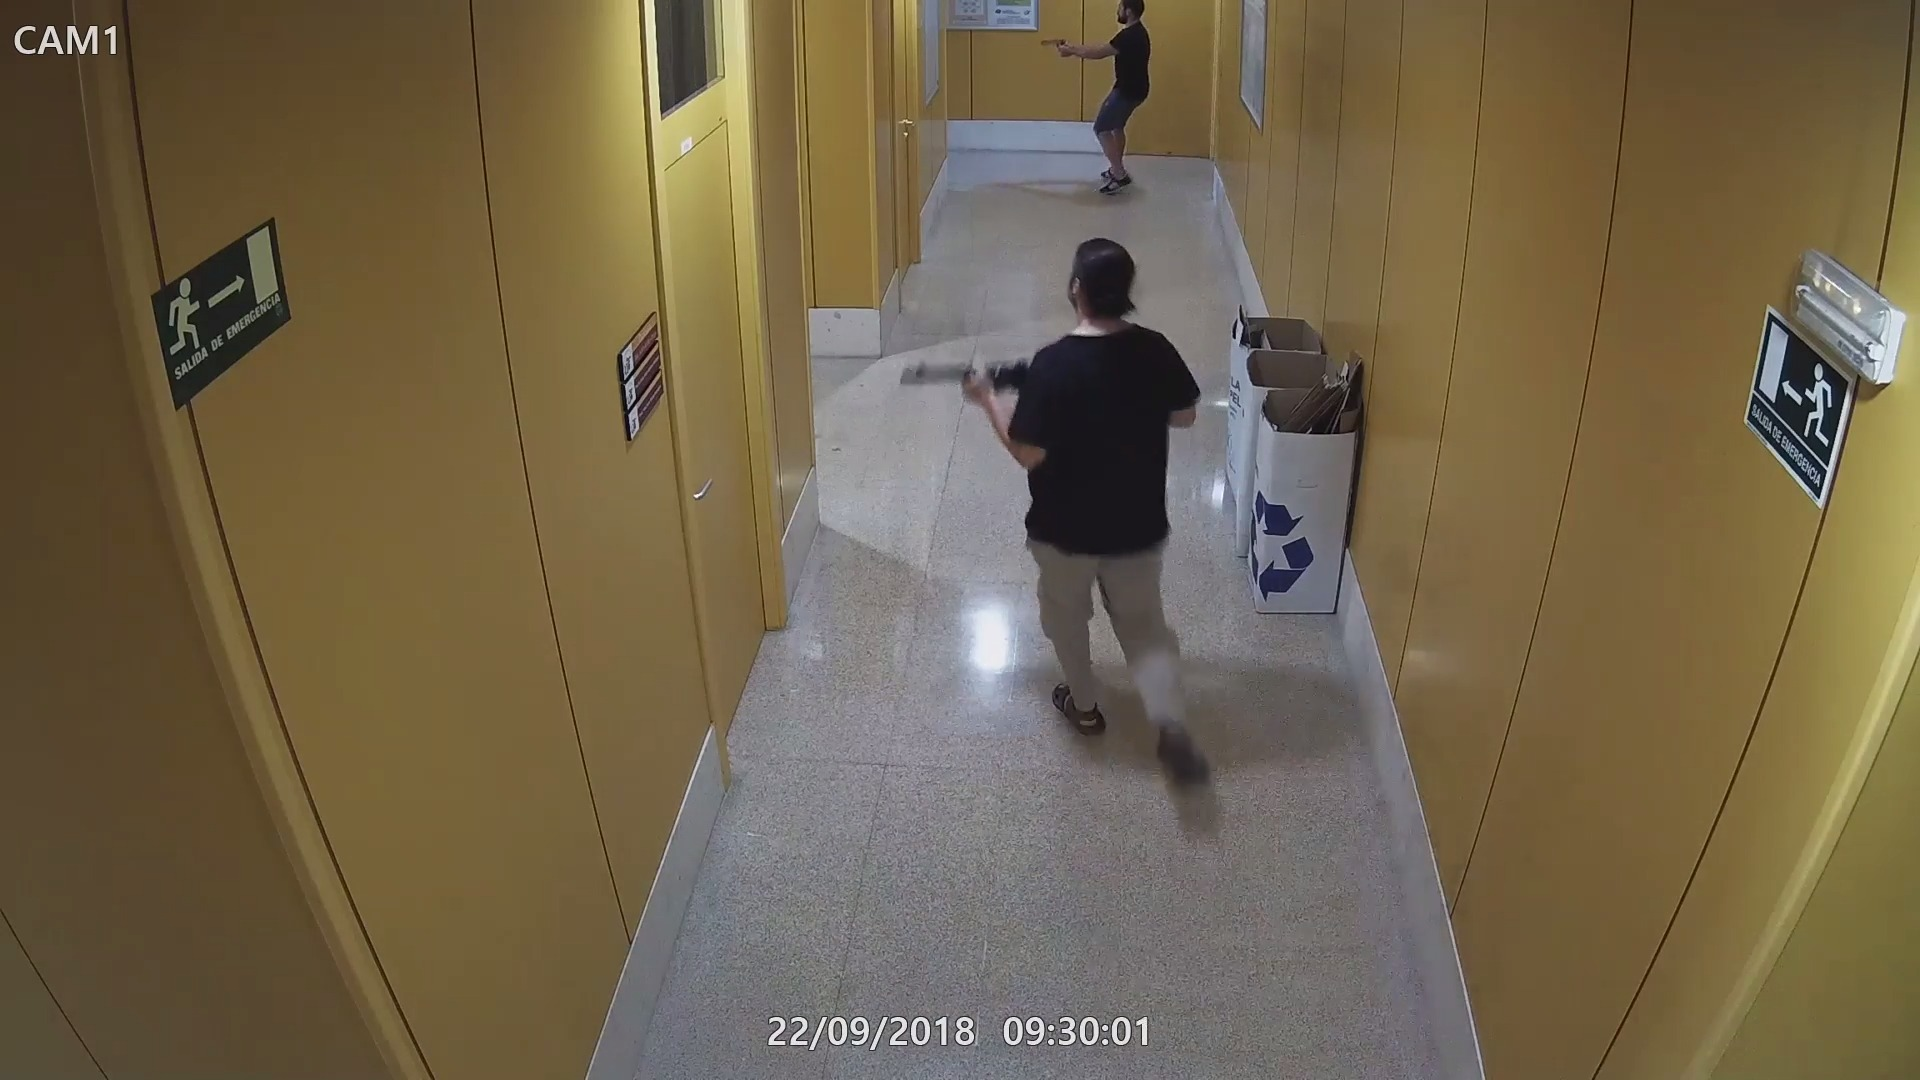pistol: (1038, 34, 1073, 61)
rifle: (899, 353, 1031, 401)
